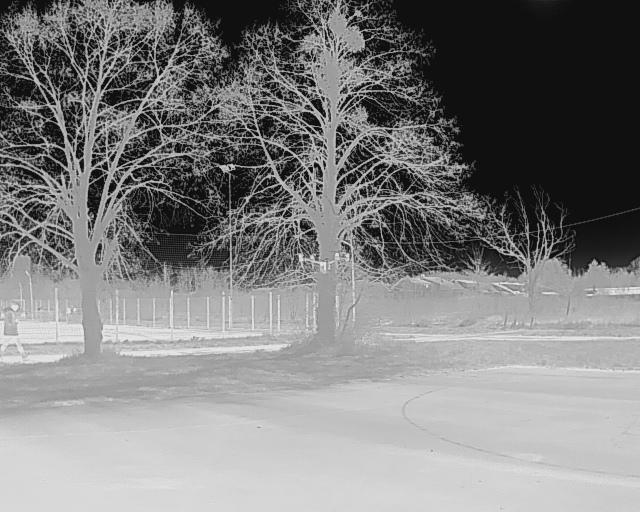drone: (290, 250, 357, 276)
